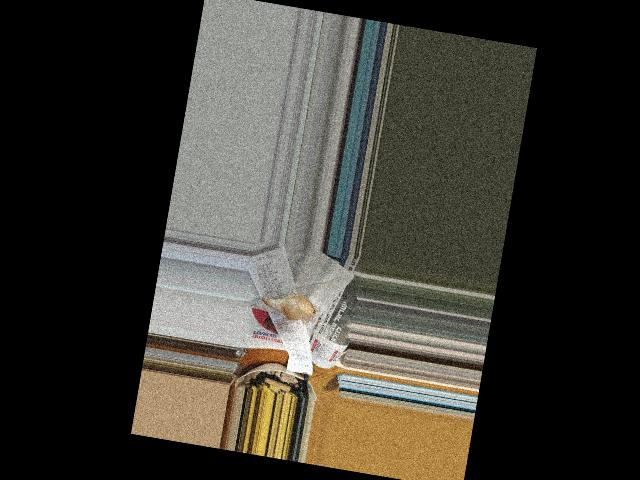onion: (275, 291, 321, 321)
